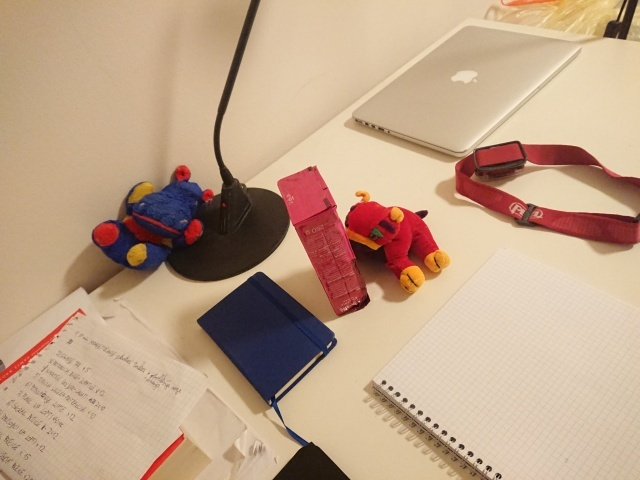Barcaffe Classic Original 225g: (273, 162, 373, 318)
